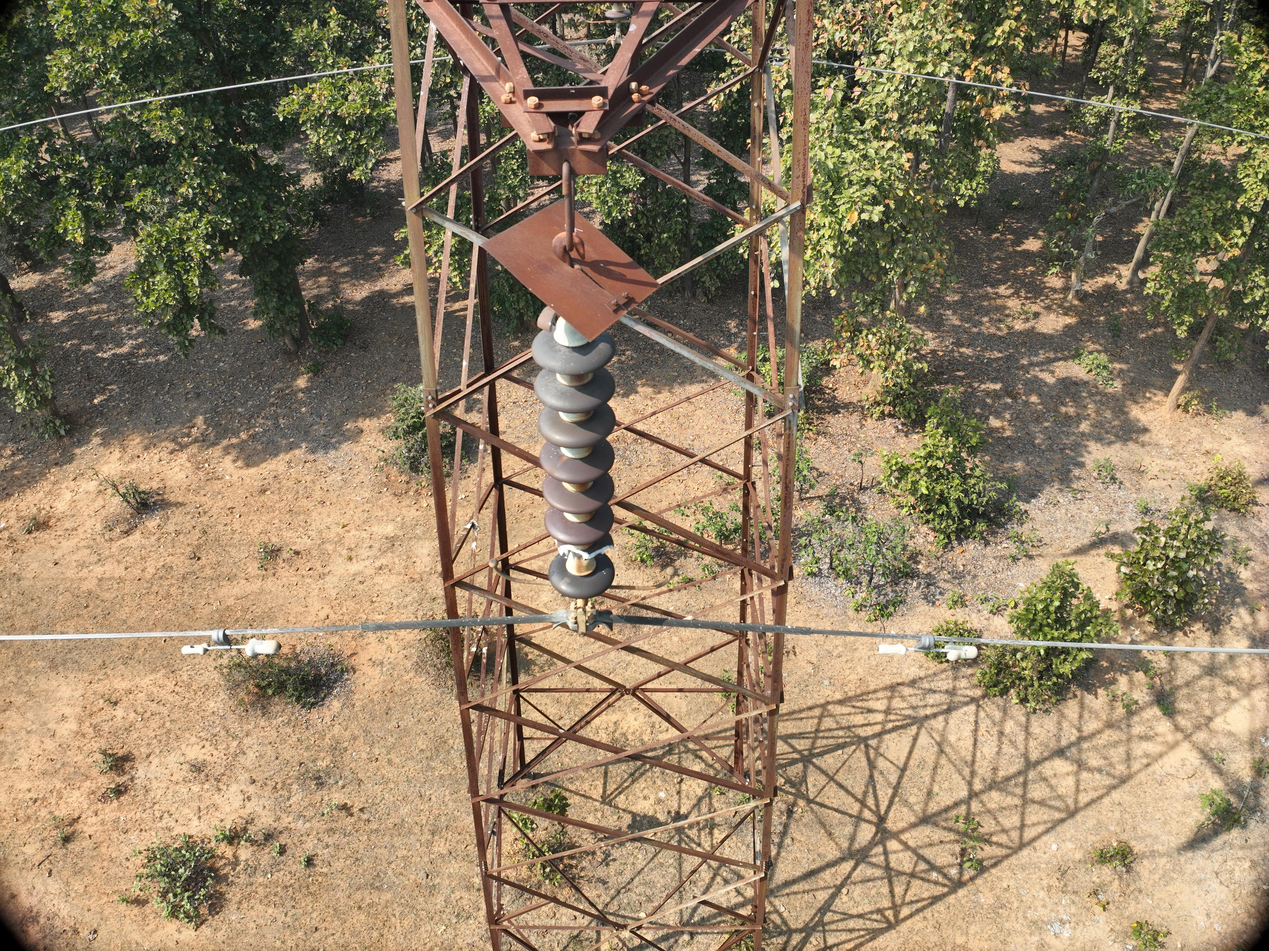broken_insulator: (545, 536, 621, 567)
